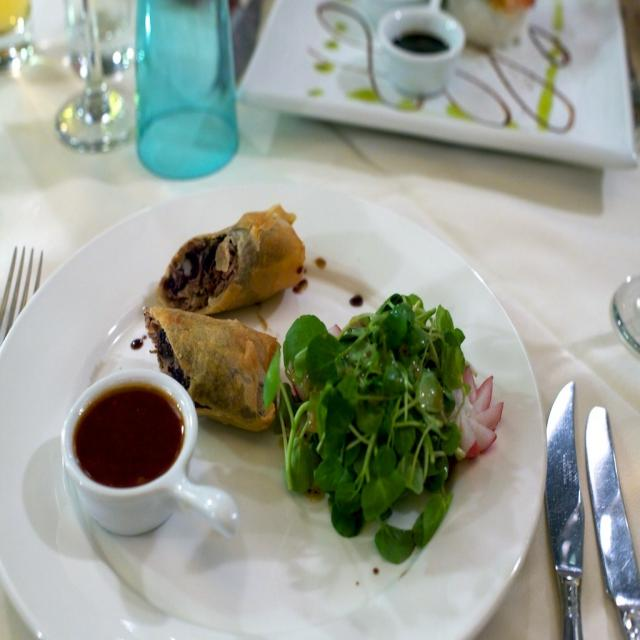Tea: (74, 389, 182, 483), (393, 28, 453, 57)
